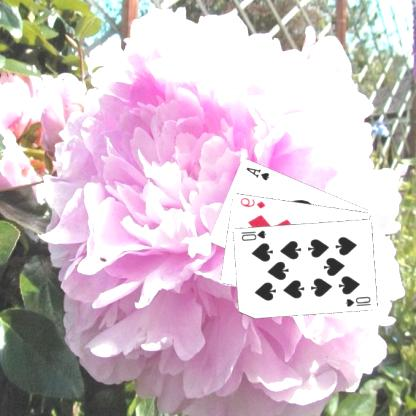10S: (344, 293, 374, 308), (240, 227, 269, 242)
9D: (238, 195, 268, 210)
AS: (245, 165, 272, 182)
